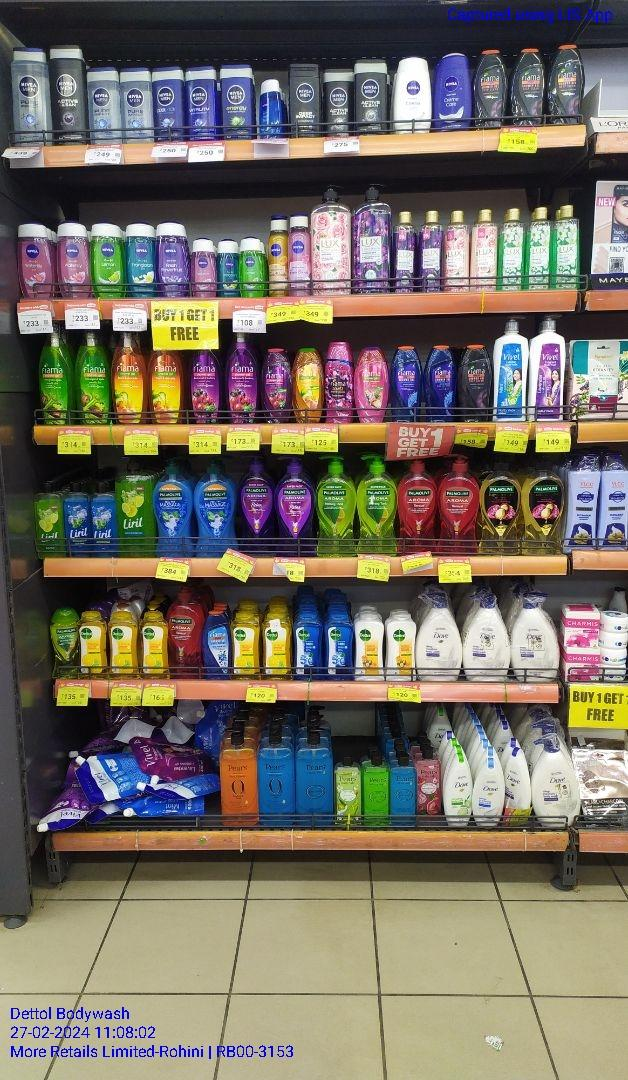Dettol_Bodywash_Cool: (323, 611, 353, 681), (294, 611, 323, 681)
Dettol_Bodywash_Refresh: (140, 610, 170, 683), (107, 611, 137, 681), (263, 611, 292, 681), (231, 611, 260, 681), (78, 613, 107, 678)
Dettol_Nourish_Body_Wash_250ML: (386, 613, 415, 682), (356, 610, 382, 682)
Dove_Deep_Moisture_Body_Wash_250ML: (505, 748, 531, 815)
Dove_Gentle_Exfoliating_Body_Wash_250ML: (476, 755, 503, 830)
Dove_Refreshing_Body_Wash_250ML: (447, 752, 472, 827)
Fiama_Shower_Gel_Patchouli_and_Macadamia_250ML: (354, 345, 385, 424)
Fiama_Shower_Gel_Peach_and_Avocado_250ML: (293, 347, 324, 425)
Liril_Cooling_Mint_Body_Wash_250ML: (64, 483, 90, 557), (91, 481, 115, 557)
Liril_Lime_and_Tea_Tree_Oil_Body_Wash_250ML: (35, 483, 65, 558)
Lux_Black_Orchid_Scent_and_Juniper_Oil_Body_Wash_245ML: (392, 208, 420, 294), (421, 207, 446, 294)
Lux_Body_Wash_Skin_Detox_Freesia_Scent_and_Alove_Vera_245ML: (554, 204, 581, 292), (498, 207, 524, 292), (528, 206, 552, 291)
Nivea_Creme_Care_Body_Wash_250ML: (435, 51, 470, 129)
Nivea_Creme_Soft_Body_Wash_250ML: (394, 54, 431, 132)
Nivea_Shower_Gel_Frangipani_and_Oil_250ML: (126, 220, 157, 299), (219, 237, 240, 298)
Nivea_Shower_Gel_Fresh_Powerfruit_250ML: (159, 219, 187, 298)
Nivea_Shower_Gel_Lemon_and_Oil_250ML: (91, 219, 125, 300), (240, 235, 267, 301)
Nivea_Shower_Gel_Waterlily_and_Oil_250ML: (56, 220, 90, 299), (18, 220, 50, 301), (190, 238, 217, 298)
Palmolive_Aroma_Morning_Tonic_Shower_Gel_250ML: (48, 608, 77, 680)
Pears_Naturale_Aloe_Vera_Body_Wash_250ML: (334, 759, 361, 828)
Pears_Pure_Glycerin_and_Lemon_Flower_Extracts_Body_Wash_250ML: (362, 752, 387, 826)
Pears_Pure_Glycerin_and_Mint_Extracts_Body_Wash_250ML: (392, 755, 417, 827)
